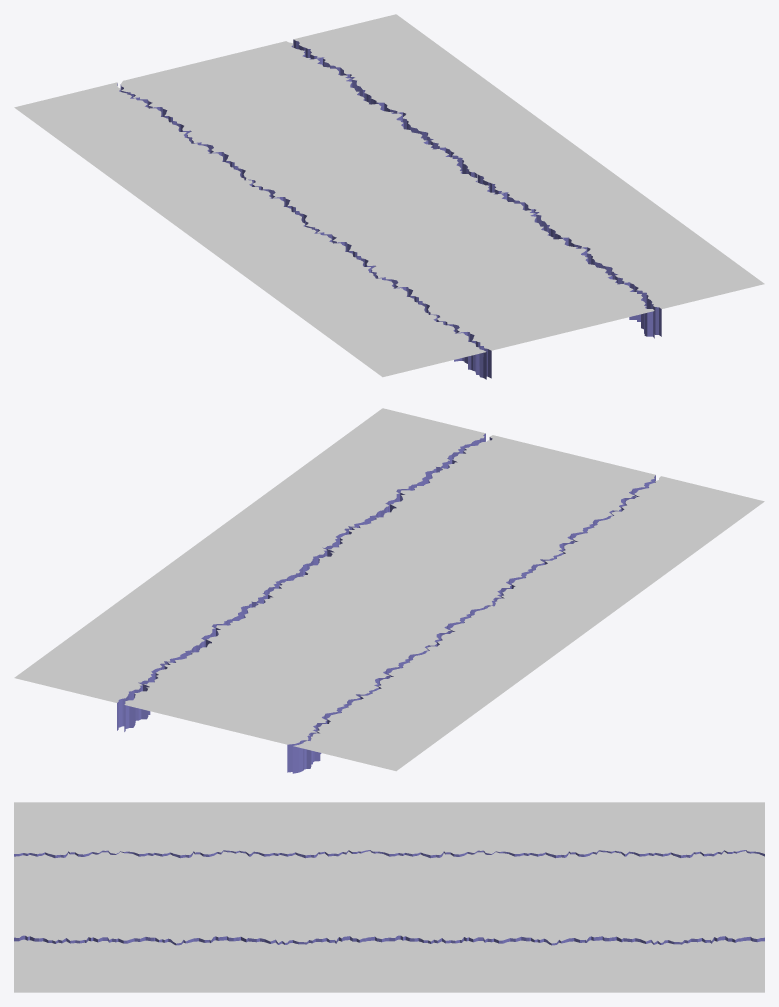
Rendered from iceberg 1.fbx.
The picture shows the model from 3 angles, top to bottom: view 1: azimuth 30°, elevation 25°; view 2: azimuth 150°, elevation 25°; view 3: azimuth 270°, elevation 25°; orthographic projection.
Visible parts, largest first — view 1: Plane.002, Plane.003, Plane.001; view 2: Plane.002, Plane.003, Plane.001; view 3: Plane.002, Plane.001, Plane.003.
Part boxes in pixels (<box>): Plane.002: <box>120,41,654,378</box>; Plane.003: <box>293,14,764,336</box>; Plane.001: <box>14,82,486,379</box>; Plane.002: <box>124,435,655,772</box>; Plane.003: <box>14,408,485,730</box>; Plane.001: <box>292,476,764,773</box>; Plane.002: <box>14,851,764,945</box>; Plane.001: <box>14,802,764,858</box>; Plane.003: <box>14,939,764,992</box>.
Size of the model in its own units: 718 by 50 by 1200.
